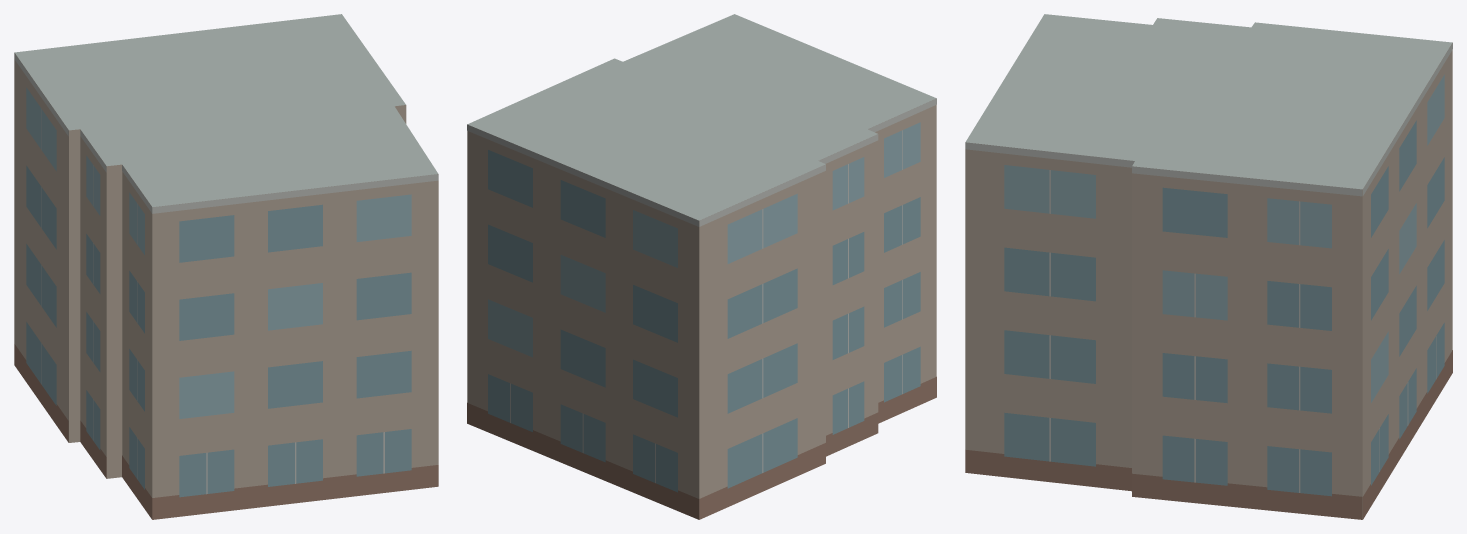
Rendered from survey-upis-33007723.glb.
3 views of the same model, side by side, from view 1: azimuth 30°, elevation 25°; view 2: azimuth 150°, elevation 25°; view 3: azimuth 270°, elevation 25° (orthographic). The views are drawn at different scales.
Visible parts, largest first — view 1: survey-upis-33007723.tmp; view 2: survey-upis-33007723.tmp; view 3: survey-upis-33007723.tmp.
Part boxes in pixels (left/top/right/bottom): survey-upis-33007723.tmp: left=14, top=14, right=438, bottom=519; survey-upis-33007723.tmp: left=467, top=14, right=936, bottom=519; survey-upis-33007723.tmp: left=965, top=14, right=1452, bottom=519.
Bounding box in the file's own units: 13.1 × 11.5 × 15.38.
